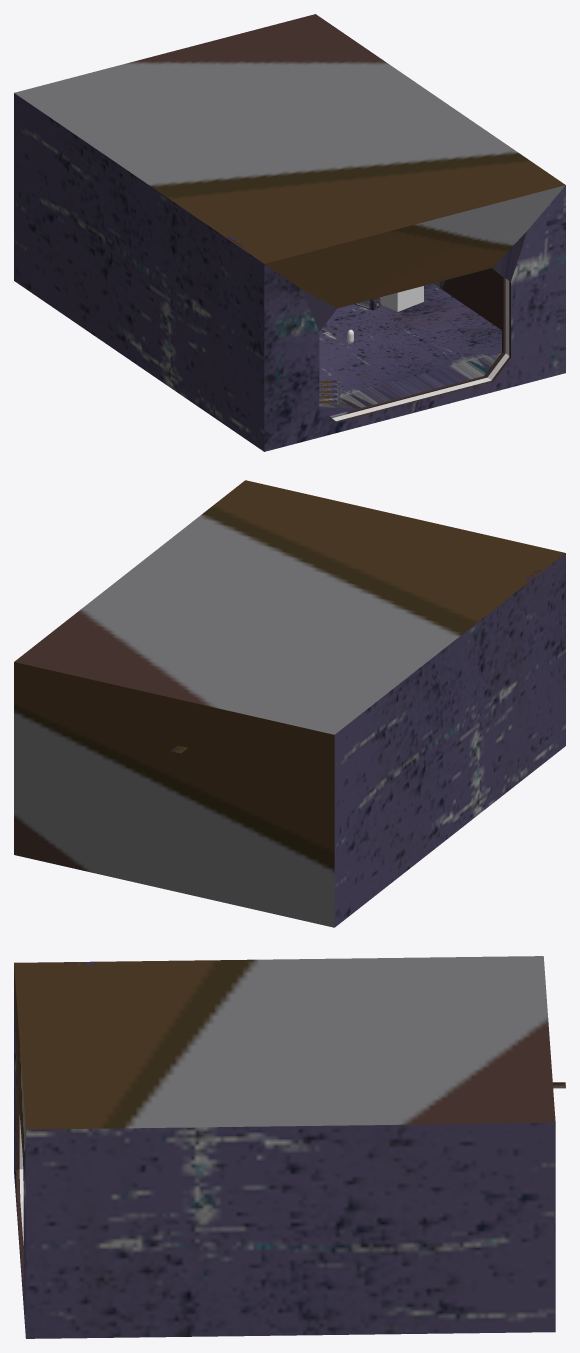
File: M4BO_Chapter1_jamieHnager_2.fbx
The picture shows the model from 3 angles, top to bottom: view 1: azimuth 30°, elevation 25°; view 2: azimuth 150°, elevation 25°; view 3: azimuth 270°, elevation 25°; orthographic projection. The views are drawn at different scales.
Parts seen in each view (by area): view 1: Cube.032, Light beam entrance, Cube.129; view 2: Cube.032; view 3: Cube.032.
Boxes of the visible parts, box(x1,y1,x2,y2) form: Cube.032: box(14, 14, 565, 451); Light beam entrance: box(332, 278, 509, 421); Cube.129: box(380, 286, 423, 311); Cube.032: box(14, 480, 565, 927); Cube.032: box(14, 956, 555, 1338).
Size of the model in its own units: 212 by 120 by 285.
